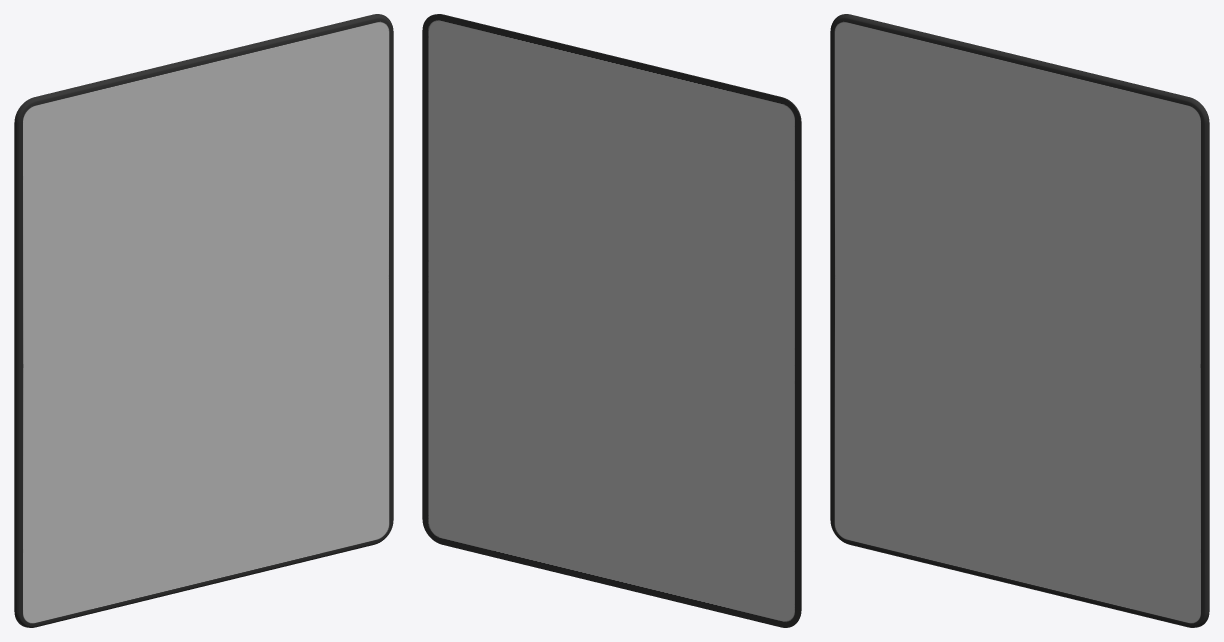
The model's file is mesh_CS_card_textframe.fbx.
3 views of the same model, side by side, from view 1: azimuth 30°, elevation 25°; view 2: azimuth 150°, elevation 25°; view 3: azimuth 330°, elevation 25° (orthographic).
Parts seen in each view (by area): view 1: mesh_CS_card_textframe; view 2: mesh_CS_card_textframe; view 3: mesh_CS_card_textframe.
Part boxes in pixels (x1,y1,x2,y2): mesh_CS_card_textframe: (14,14,393,627); mesh_CS_card_textframe: (422,14,801,627); mesh_CS_card_textframe: (830,14,1209,627).
Bounding box in the file's own units: 599 × 801 × 6.7.
